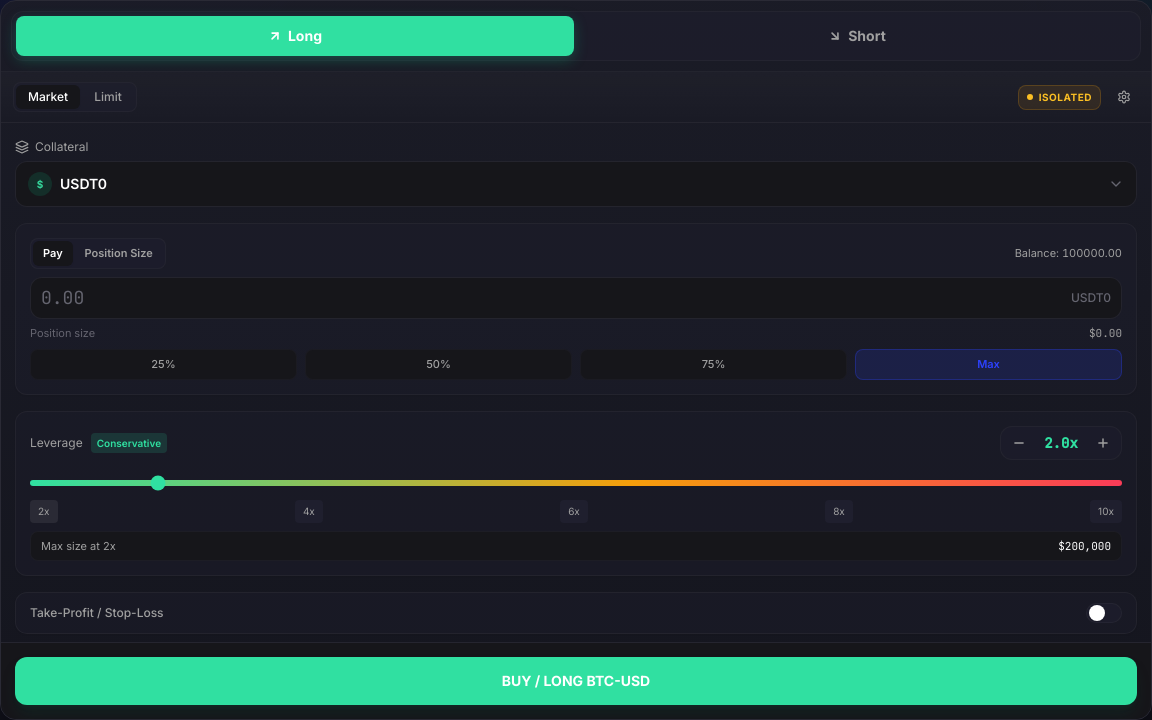
Test: TradingForm risk and funding › shows funding "you earn" for a short when long pays
In the number field with test id "margin-input": (552, 298) x1=41 y1=284 x2=1063 y2=312, type "100"
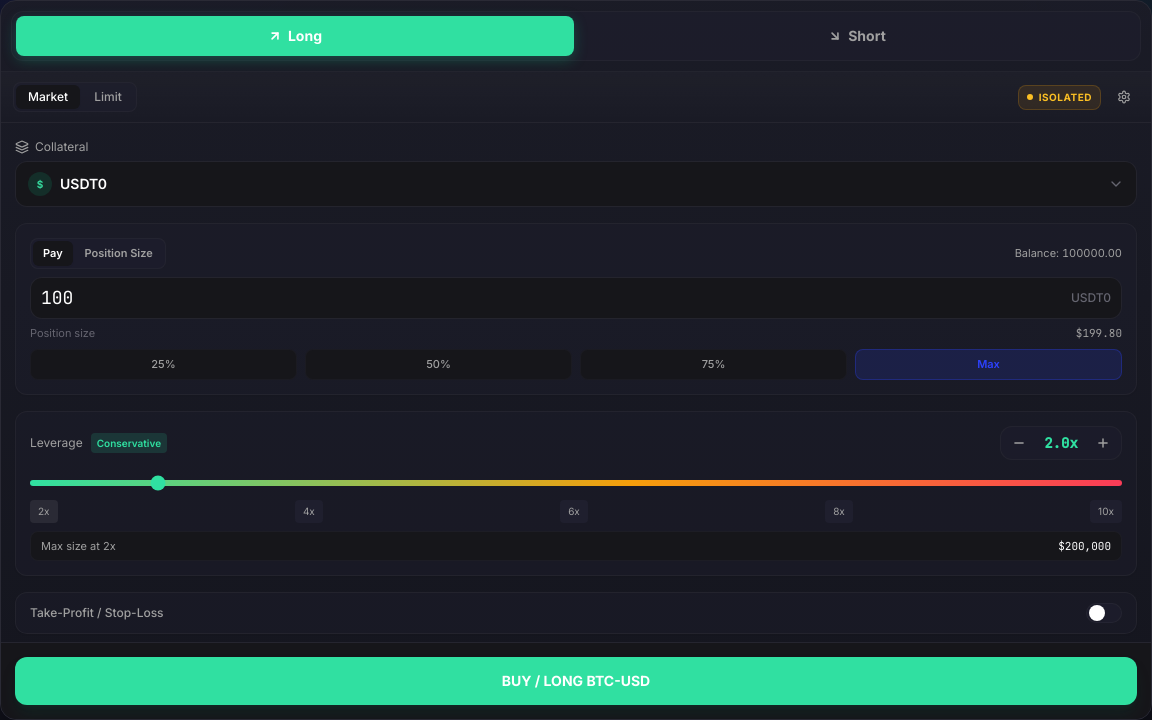
Click the button "Short": (857, 36) x1=578 y1=16 x2=1136 y2=56
(page scrolled)
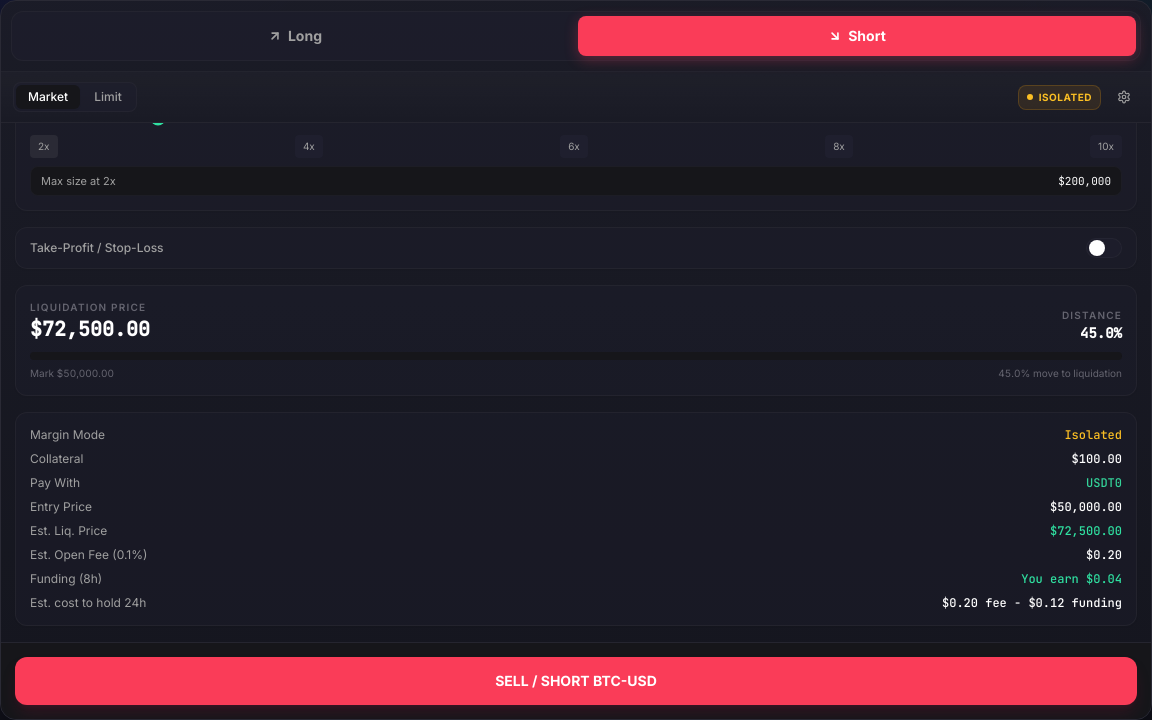
expect the text "You earn $0.04" is shown: met, box x1=1021 y1=571 x2=1122 y2=587
